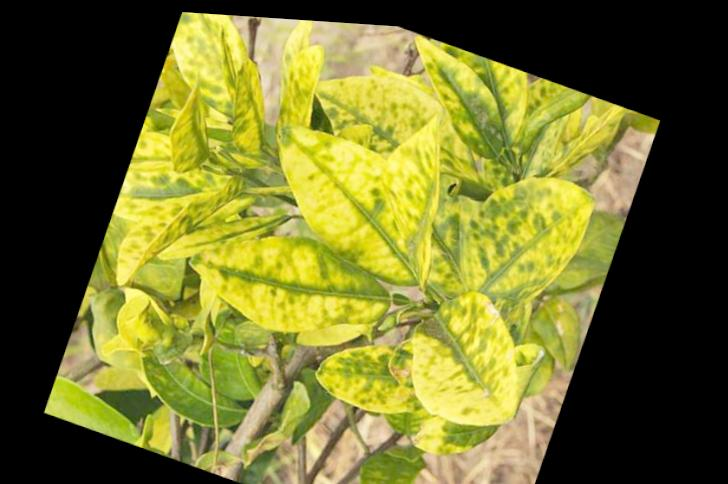Citrus Greening: (175, 192, 410, 362), (390, 268, 556, 439), (446, 140, 605, 317), (380, 25, 545, 165)
